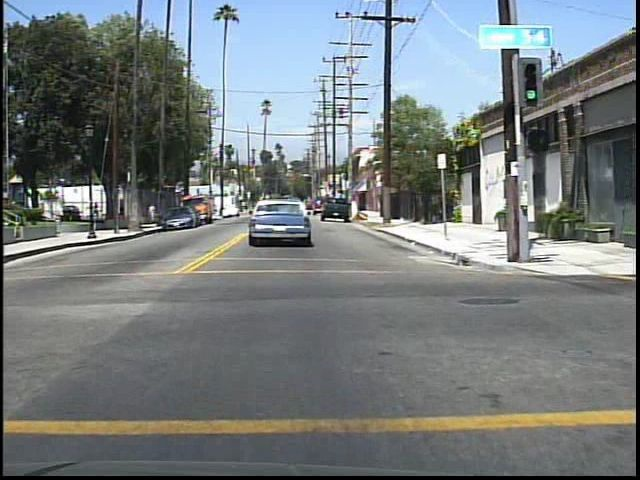person: (115, 194, 128, 219), (147, 197, 159, 223), (90, 198, 102, 219)
